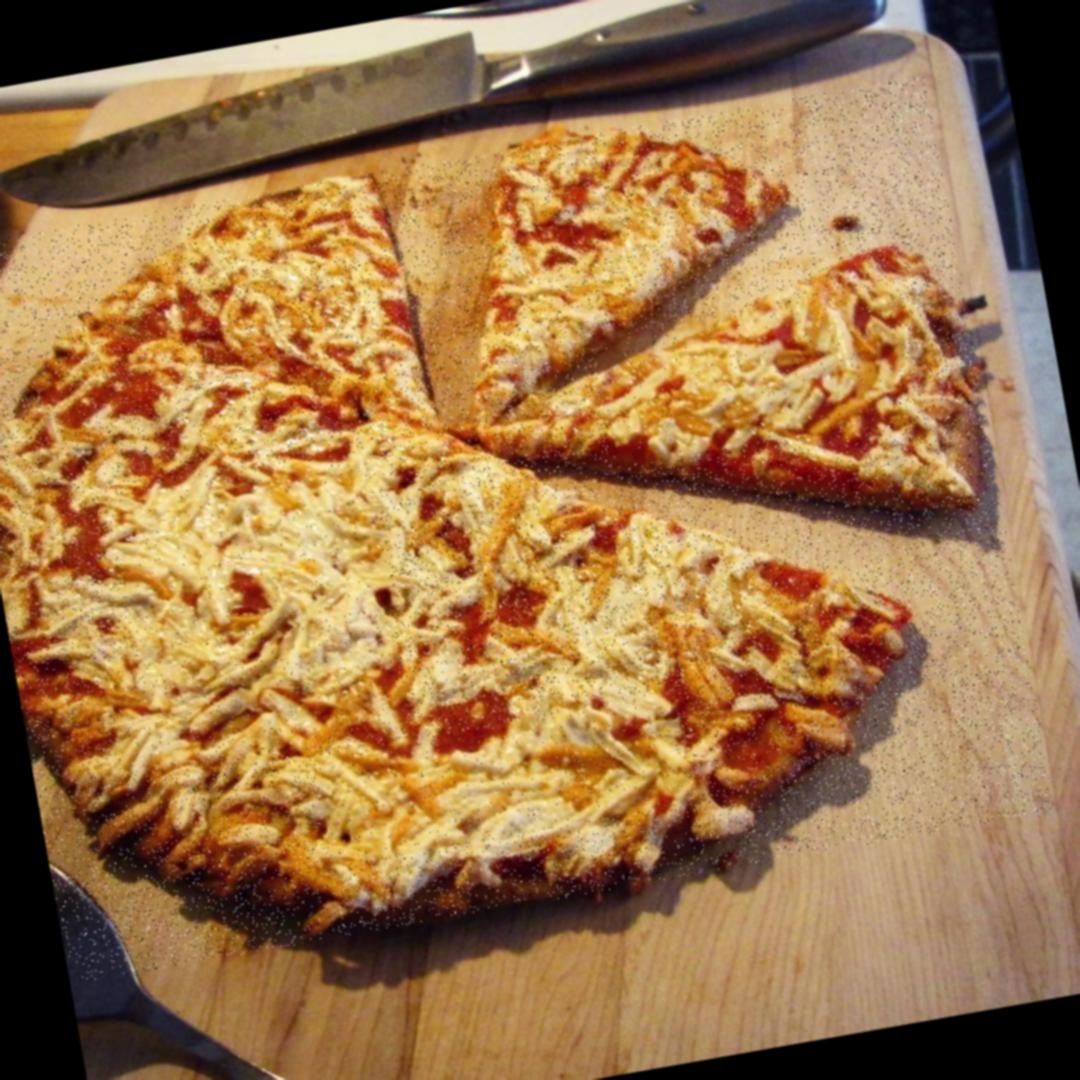Cheese: (403, 435, 696, 706), (315, 694, 692, 866), (590, 286, 906, 468), (110, 451, 396, 651), (106, 612, 410, 773), (508, 201, 664, 317)
Pizza: (0, 76, 1055, 985)
